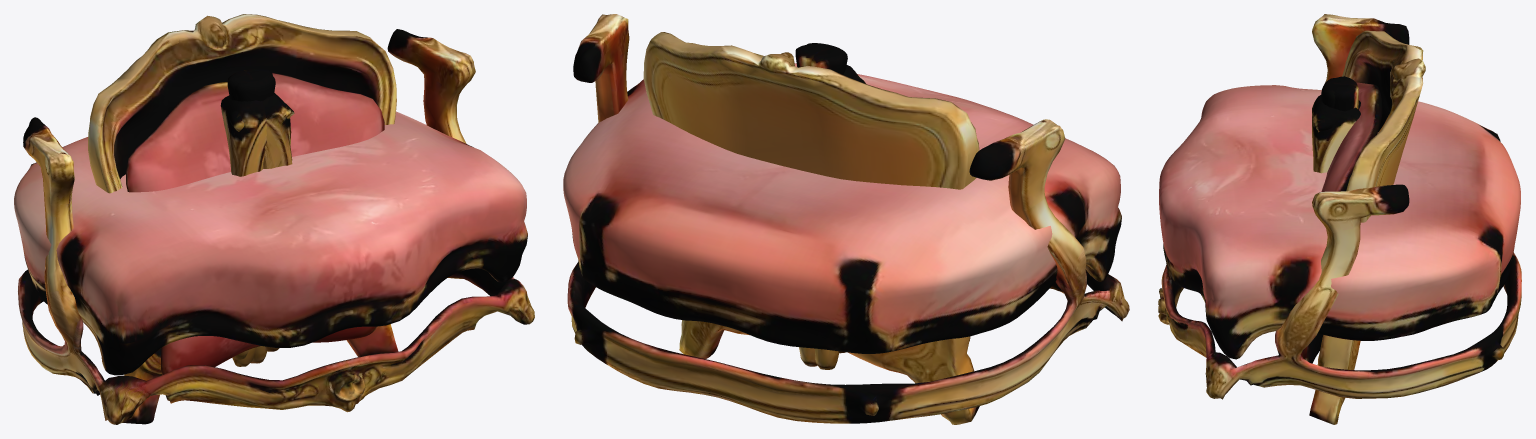
3 renders of one model, left to right at view 1: azimuth 30°, elevation 25°; view 2: azimuth 150°, elevation 25°; view 3: azimuth 270°, elevation 25°, orthographic. The views are drawn at different scales.
Parts seen in each view (by area): view 1: root.0, root.2, root.1, root.3, root.5, root.4, root.6, root.7; view 2: root.0, root.1, root.2, root.7, root.6; view 3: root.0, root.2, root.1, root.3, root.4, root.6, root.7.
Part boxes in pixels (bbox=[...]): root.0: bbox=[14, 111, 527, 375]; root.2: bbox=[18, 29, 534, 424]; root.1: bbox=[88, 14, 398, 424]; root.3: bbox=[126, 72, 384, 374]; root.5: bbox=[220, 95, 294, 359]; root.4: bbox=[229, 93, 292, 351]; root.6: bbox=[232, 69, 272, 366]; root.7: bbox=[227, 71, 275, 363]; root.0: bbox=[563, 63, 1121, 353]; root.1: bbox=[643, 32, 979, 424]; root.2: bbox=[567, 14, 1129, 423]; root.7: bbox=[799, 43, 845, 366]; root.6: bbox=[795, 43, 847, 369]; root.0: bbox=[1159, 85, 1520, 359]; root.2: bbox=[1158, 14, 1521, 399]; root.1: bbox=[1309, 30, 1425, 424]; root.3: bbox=[1301, 82, 1382, 363]; root.4: bbox=[1312, 100, 1360, 173]; root.6: bbox=[1321, 78, 1358, 111]; root.7: bbox=[1321, 76, 1358, 108].
Size of the model in its own units: 20335 by 15254 by 16162.
1 material, 1 textured.
